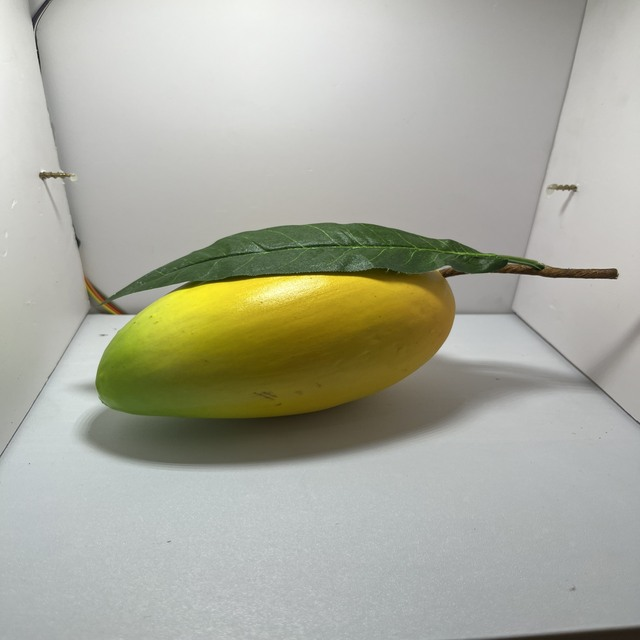Xoai: (88, 223, 460, 417)
